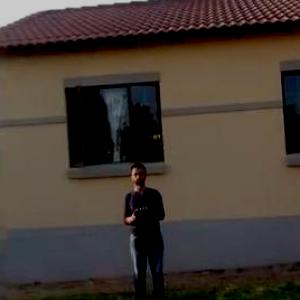follow: (120, 159, 174, 299)
